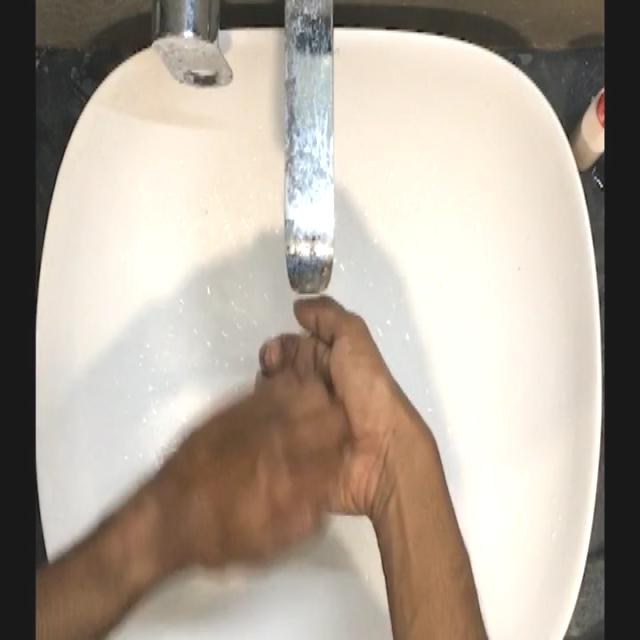step_4: (172, 282, 400, 543)
